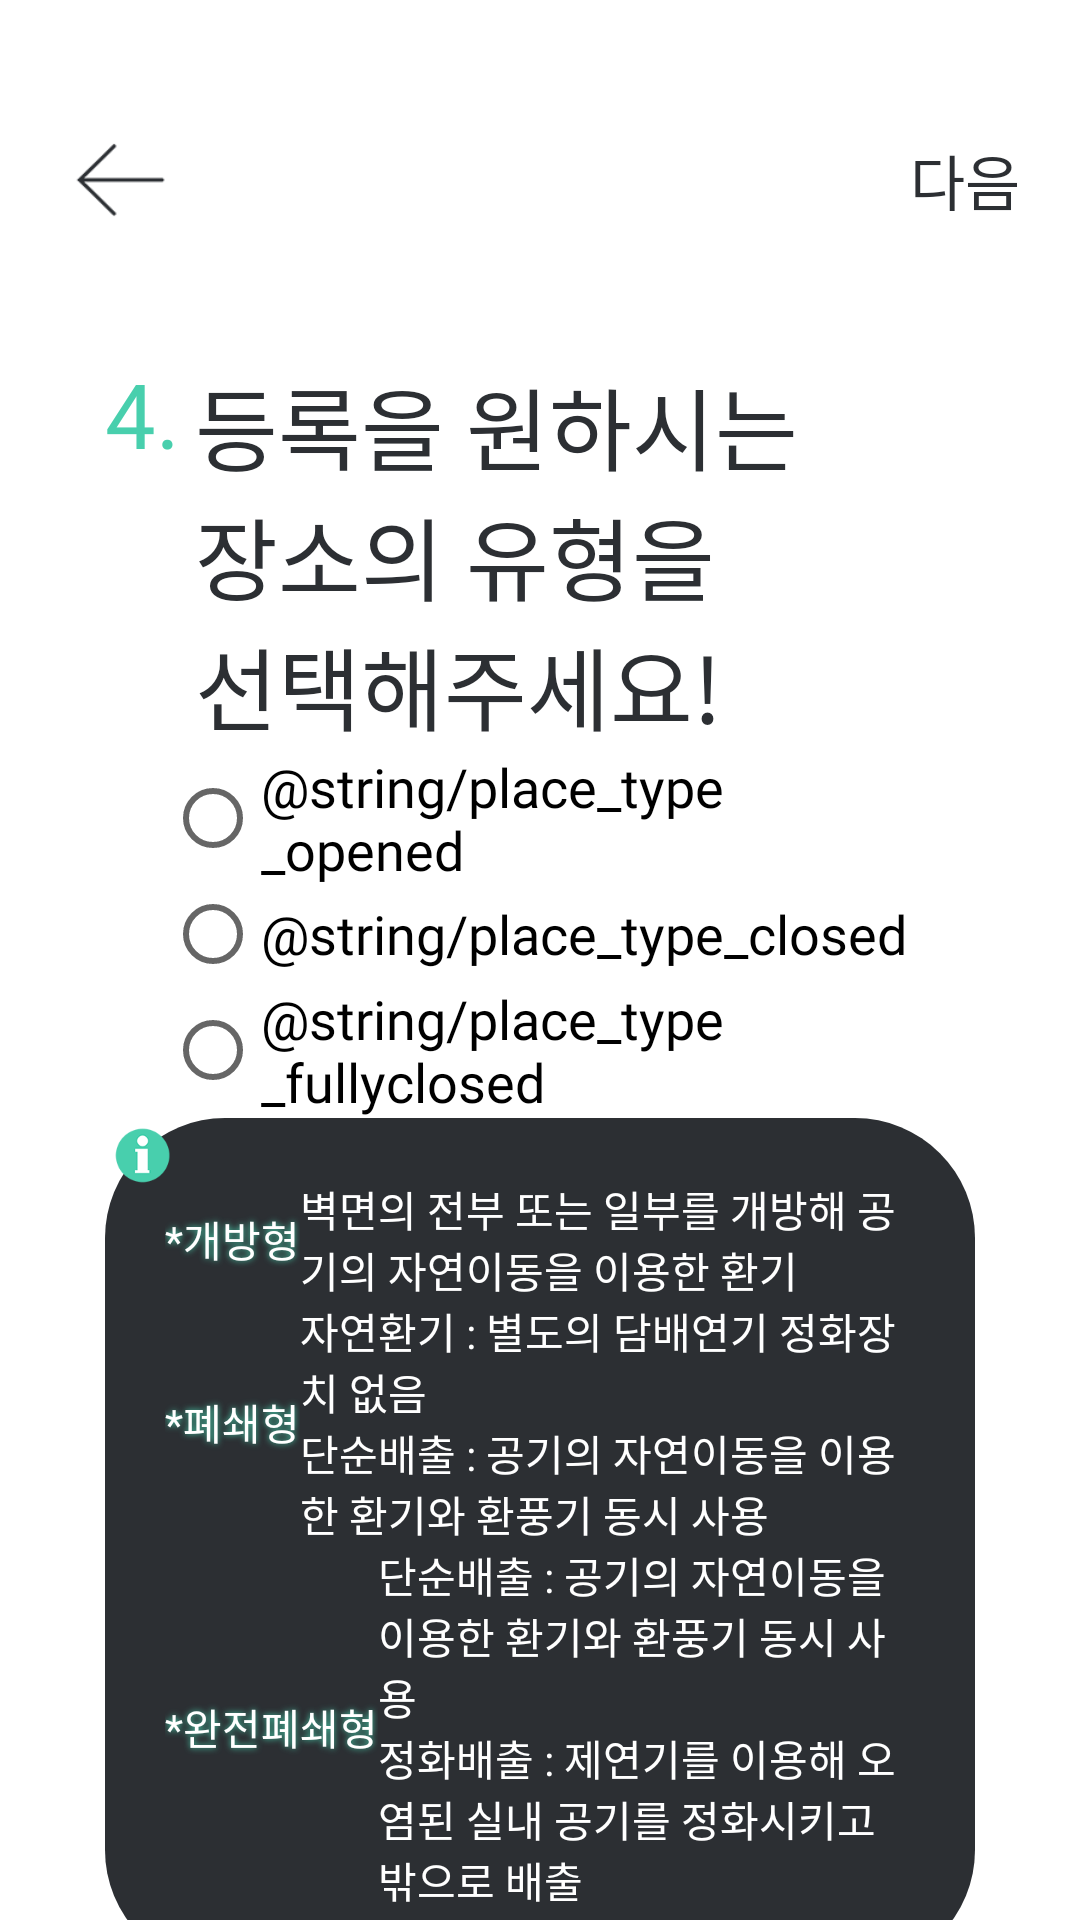

Where to tap for icons on this 1080 x 1920 app screen, as (x=x, y=y):
back arrow: (x=121, y=180)
information: (x=142, y=1155)
